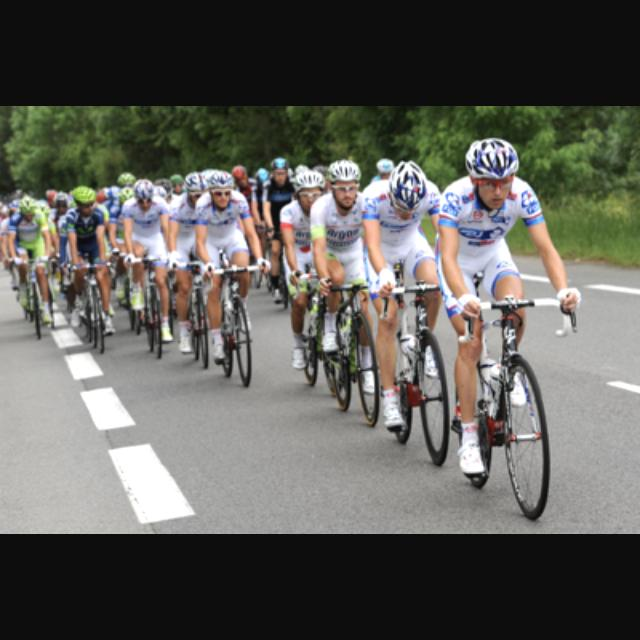With Helmet: (460, 134, 528, 212), (384, 156, 430, 226), (320, 157, 364, 211), (204, 168, 238, 214), (69, 180, 101, 220), (13, 191, 42, 229), (128, 174, 156, 212)
